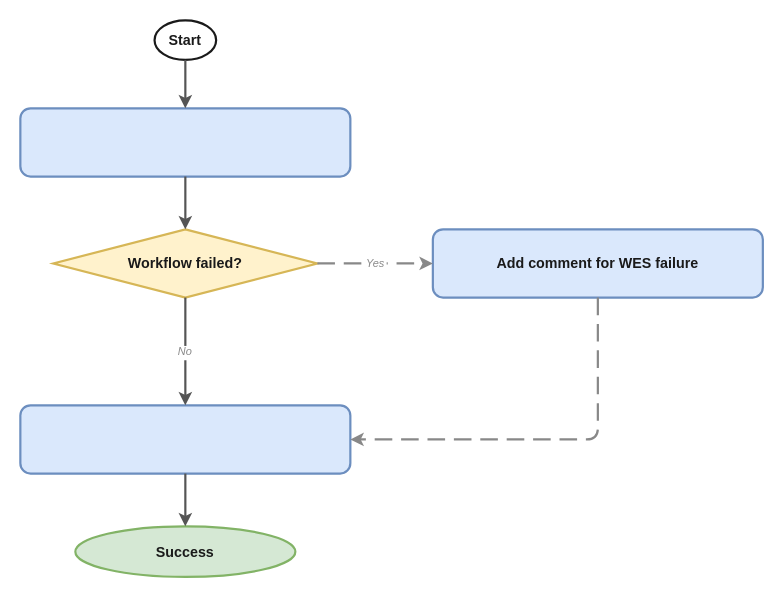
Image size: 782x596. Some labels were removed from this diagram. The centre of each missing label's shape, as x and y in pixels:
"Convert ICAv2 WES event to WRSC Event" belongs at (185,142).
"Push WRSC Event" belongs at (185,439).
